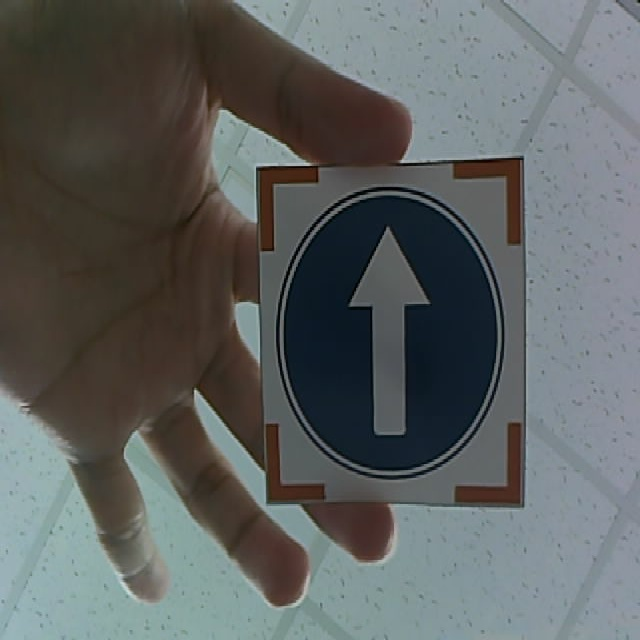straight: (253, 157, 526, 510)
